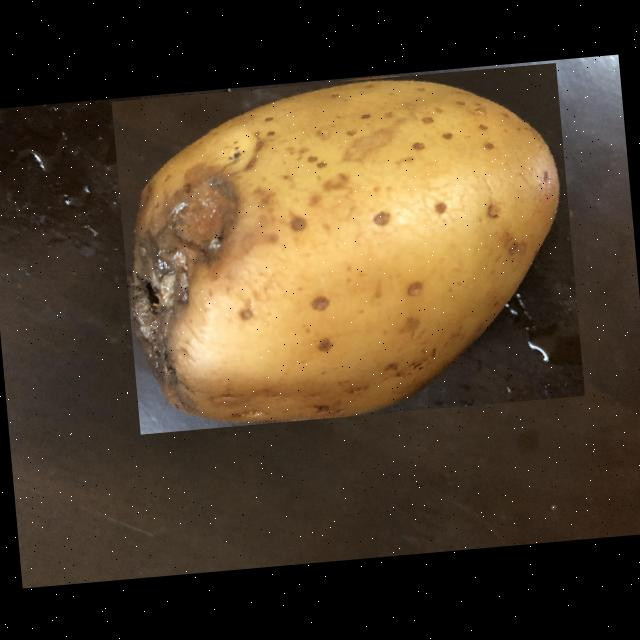Damaged potato: (111, 61, 584, 434)
